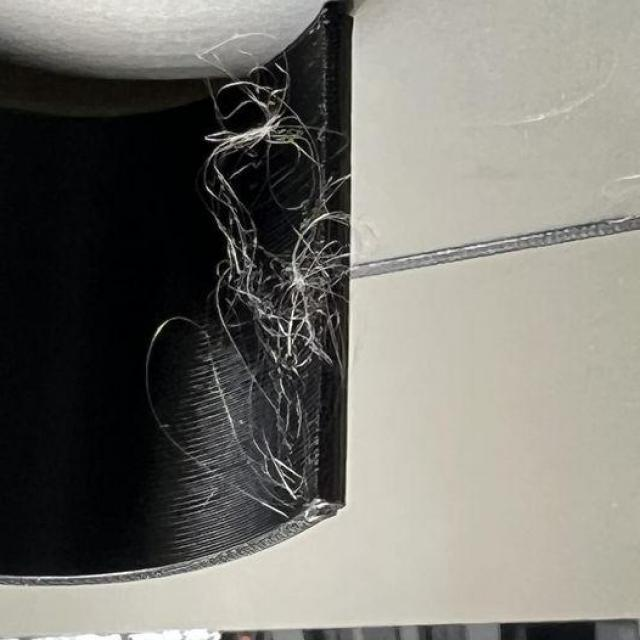stringing: (199, 33, 342, 517)
